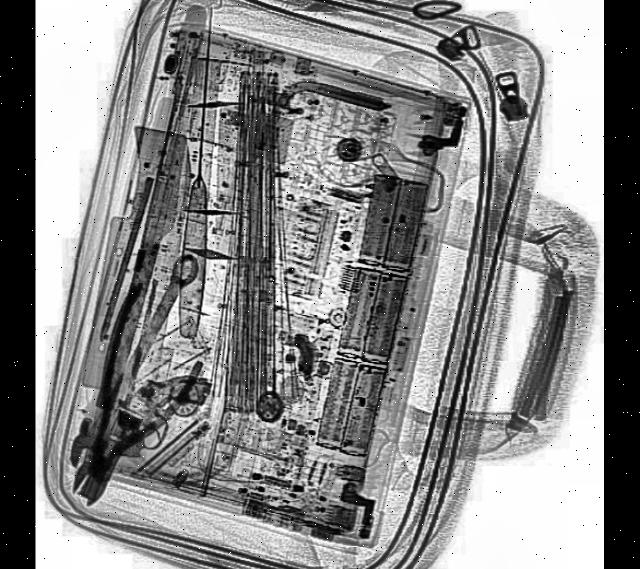Knife: (176, 2, 226, 341)
Pliers: (44, 276, 219, 532)
Wrench: (65, 246, 208, 482)
